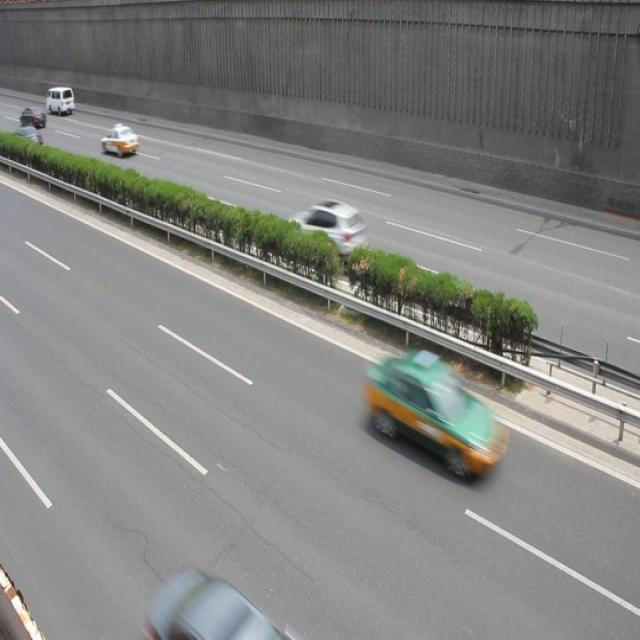car: (364, 349, 511, 478), (282, 202, 369, 266), (101, 125, 139, 157)
truck: (46, 88, 76, 117)
